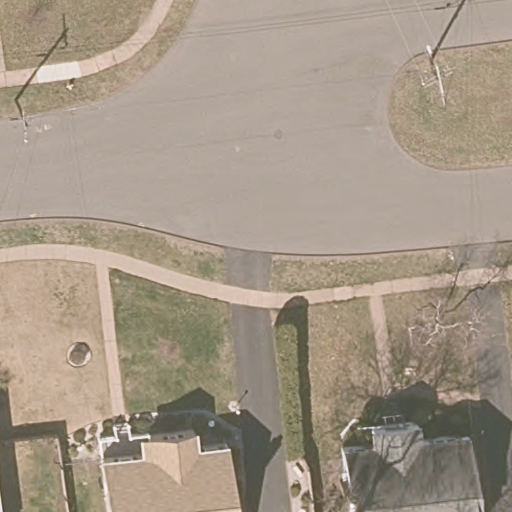DT: (420, 44, 454, 106), (9, 97, 42, 144)
